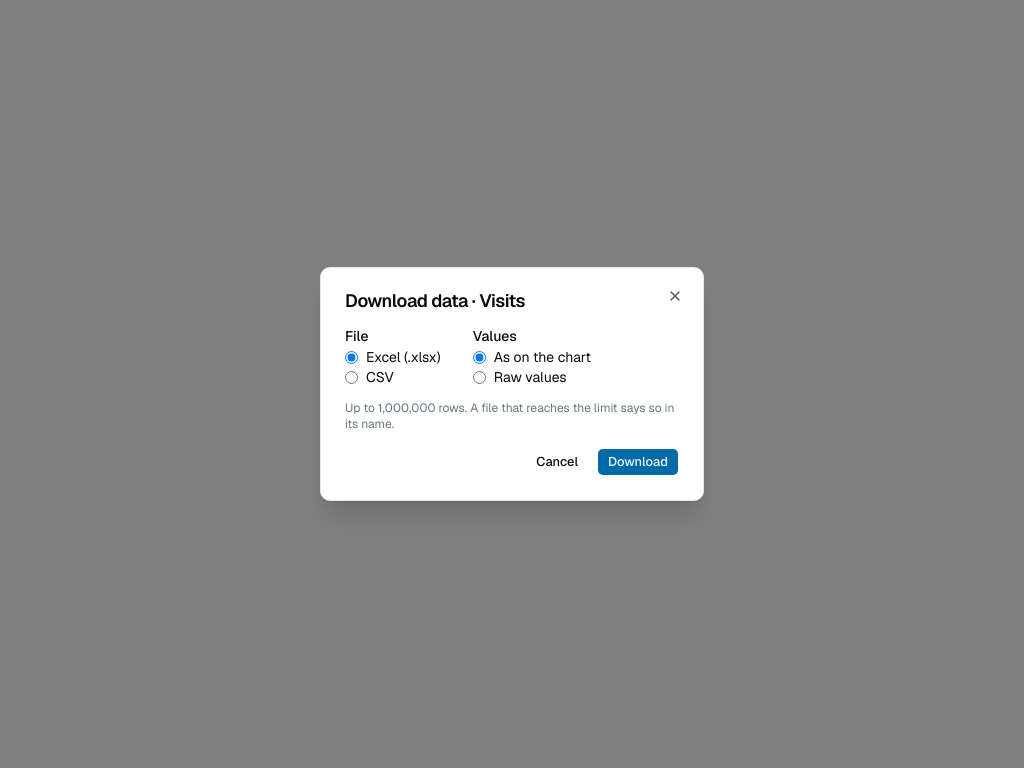
Test: Download data… › shows the server's refusal and keeps the dialog open
Click the button "Download" at (638, 462), box x1=597 y1=448 x2=679 y2=476
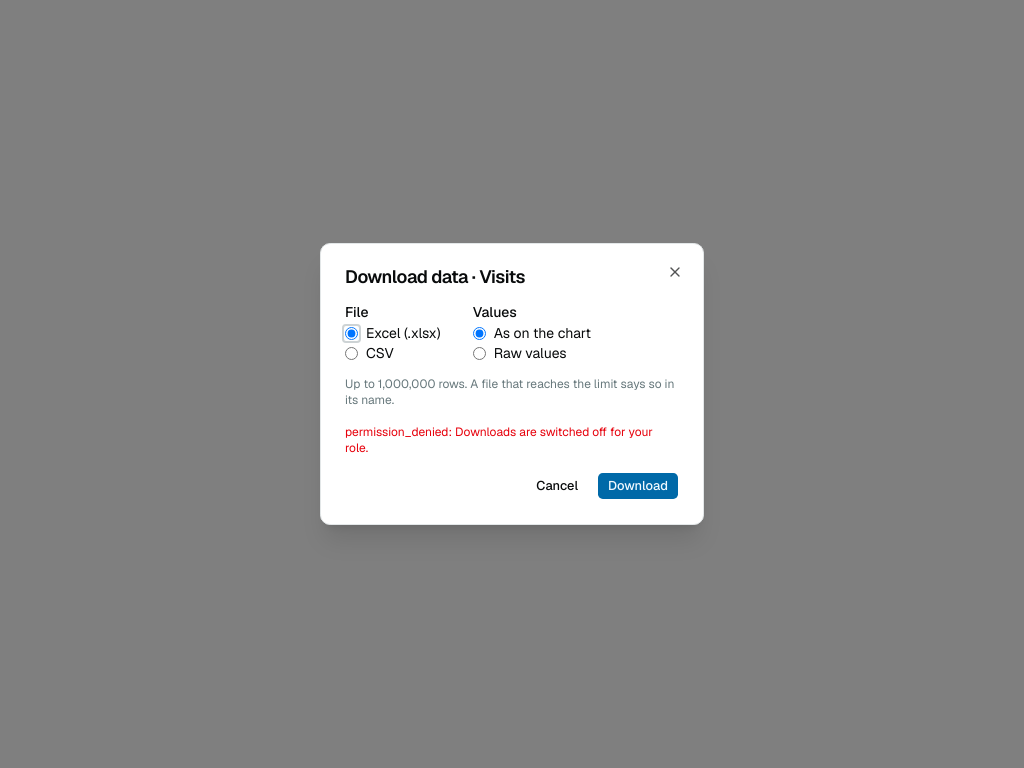
Check: the message shows "Downloads are switched off for your role.", box x1=345 y1=424 x2=653 y2=456
